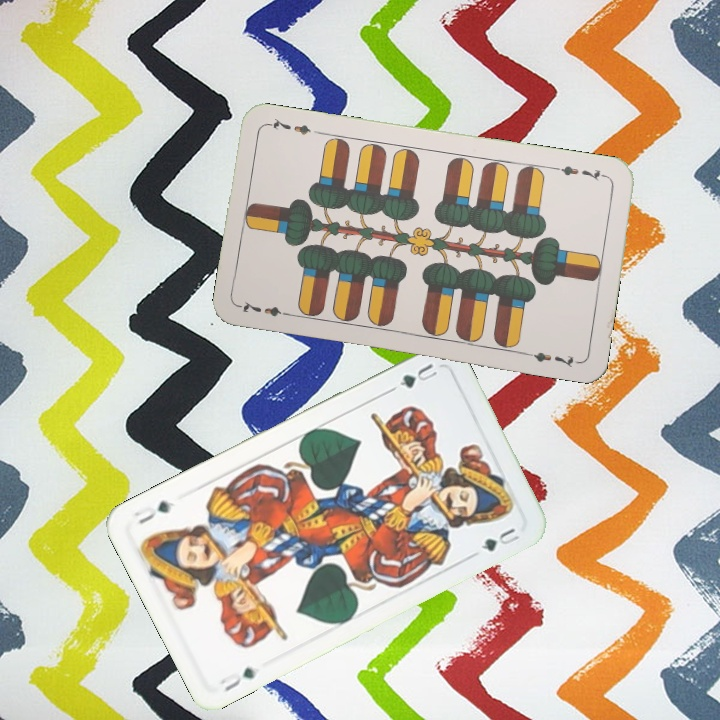E7: (551, 161, 610, 183), (236, 297, 295, 319)
GU: (395, 359, 440, 391), (216, 663, 258, 694)
